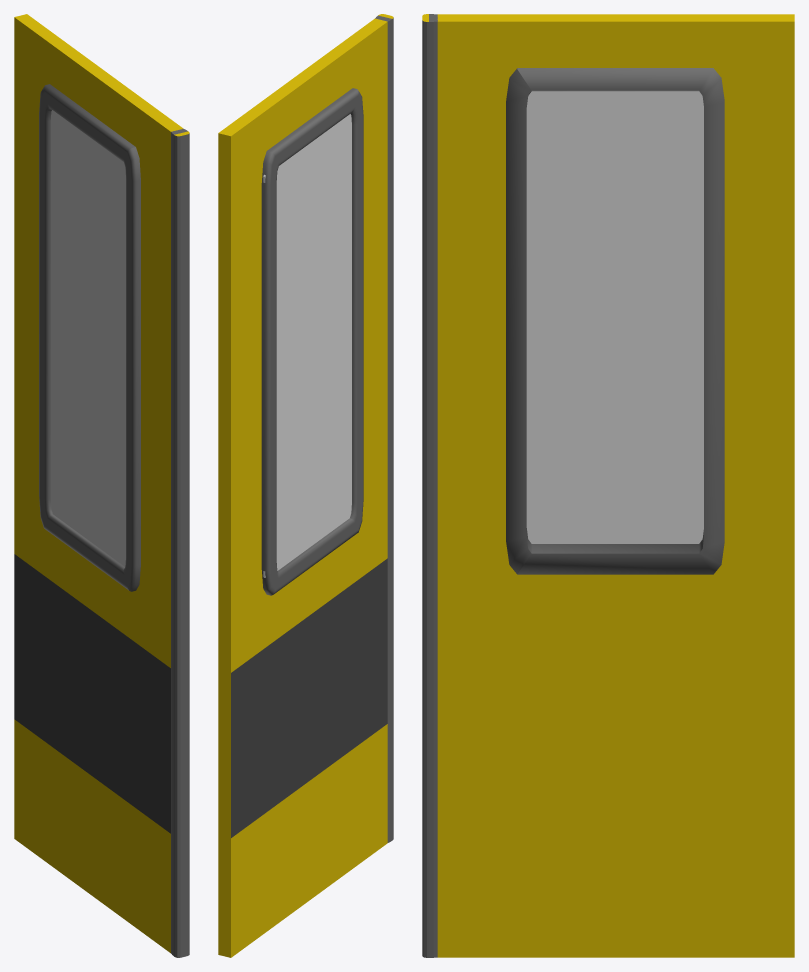
File: PuertaA.fbx
3 renders of one model, left to right at view 1: azimuth 30°, elevation 25°; view 2: azimuth 150°, elevation 25°; view 3: azimuth 270°, elevation 25°, orthographic. The views are drawn at different scales.
Visible parts, largest first — view 1: Plane.005; view 2: Plane.005; view 3: Plane.005.
Part boxes in pixels (x1,y1,x2,y2): Plane.005: (14,14,189,957); Plane.005: (218,14,393,957); Plane.005: (422,14,794,957).
Bounding box in the file's own units: 12.51 × 431 × 155.
